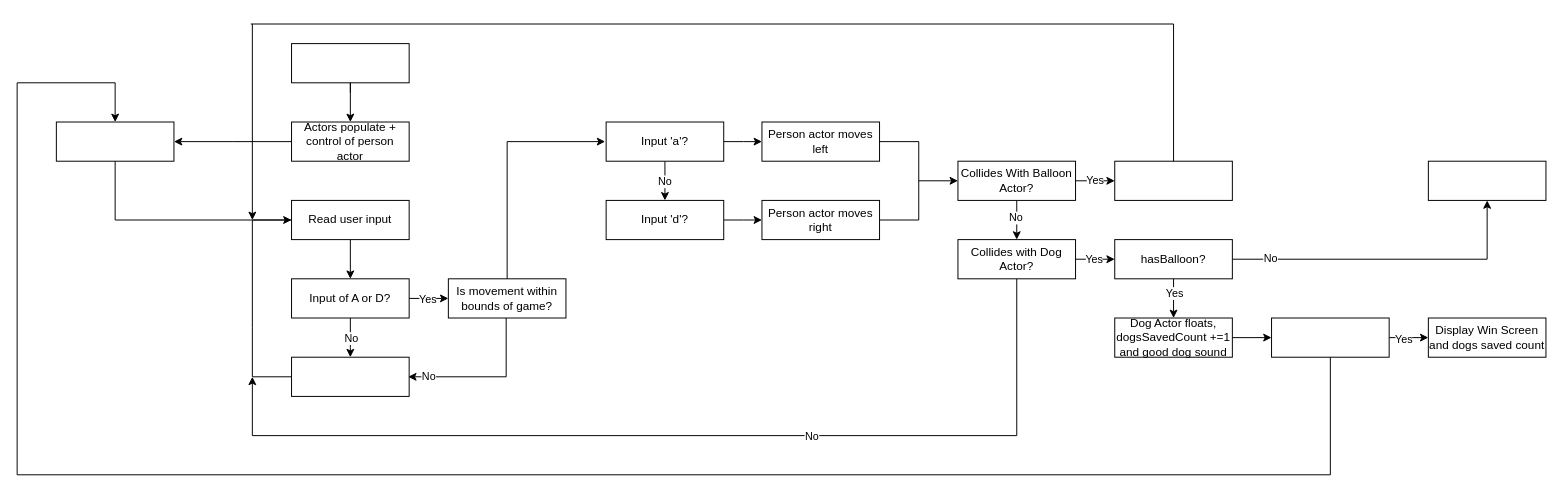
Some shapes in this 1563 by 493 pixel diagram are drawn without their labels. Here are the shapes that lost their labels. From the top down, the centre of each, then its label:
At (350,63): "Instructions display temporarily".
At (114,141): "Populate dog populate balloon".
At (1173,180): "Boolean hasBalloon set to true + play balloon sound".
At (1486,180): "Display Game Over Screen and Dogs Saved".
At (1330,337): "dogsSavedCount == 10?".
At (350,376): "Do Nothing".
